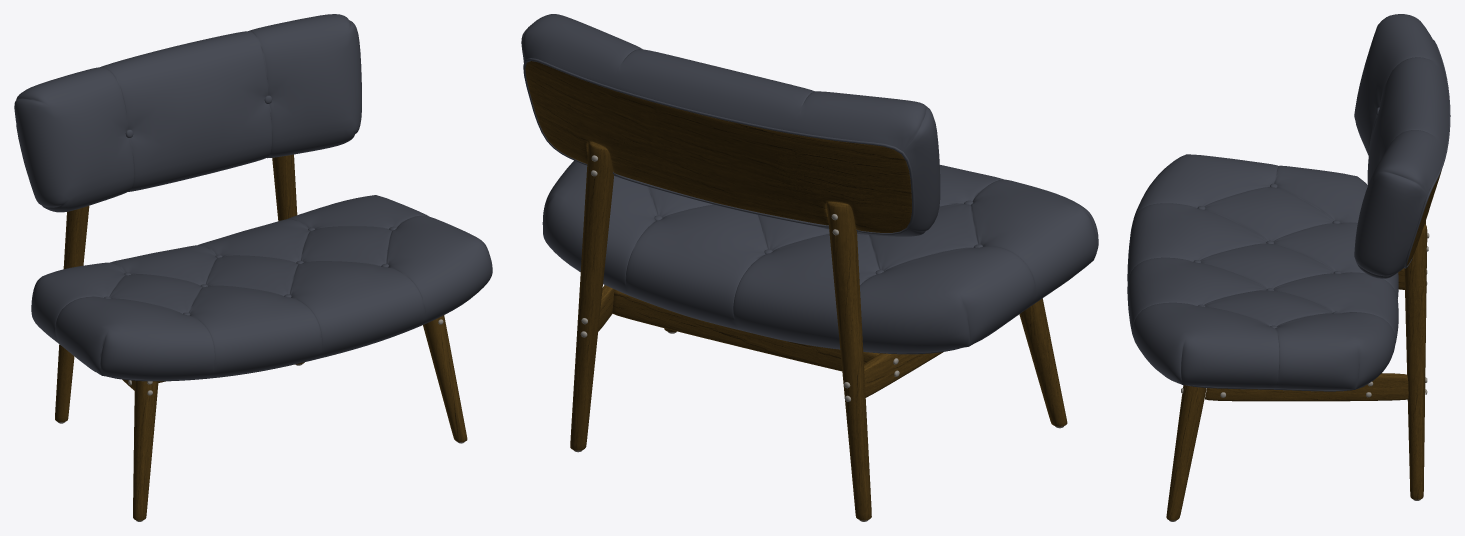
The model's file is hero-chair.glb.
3 views of the same model, side by side, from view 1: azimuth 30°, elevation 25°; view 2: azimuth 150°, elevation 25°; view 3: azimuth 270°, elevation 25° (orthographic). The views are drawn at different scales.
Visible parts, largest first — view 1: SheenChair_fabric, SheenChair_wood; view 2: SheenChair_fabric, SheenChair_wood; view 3: SheenChair_fabric, SheenChair_wood.
Part boxes in pixels (<box>): SheenChair_fabric: <box>14,14,492,381</box>; SheenChair_wood: <box>55,154,467,520</box>; SheenChair_fabric: <box>521,14,1098,354</box>; SheenChair_wood: <box>525,61,1067,520</box>; SheenChair_fabric: <box>1127,14,1450,391</box>; SheenChair_wood: <box>1166,170,1441,520</box>.
Bounding box in the file's own units: 0.8266 × 0.6863 × 0.5702.
Materials: 4 (2 with a texture image).
